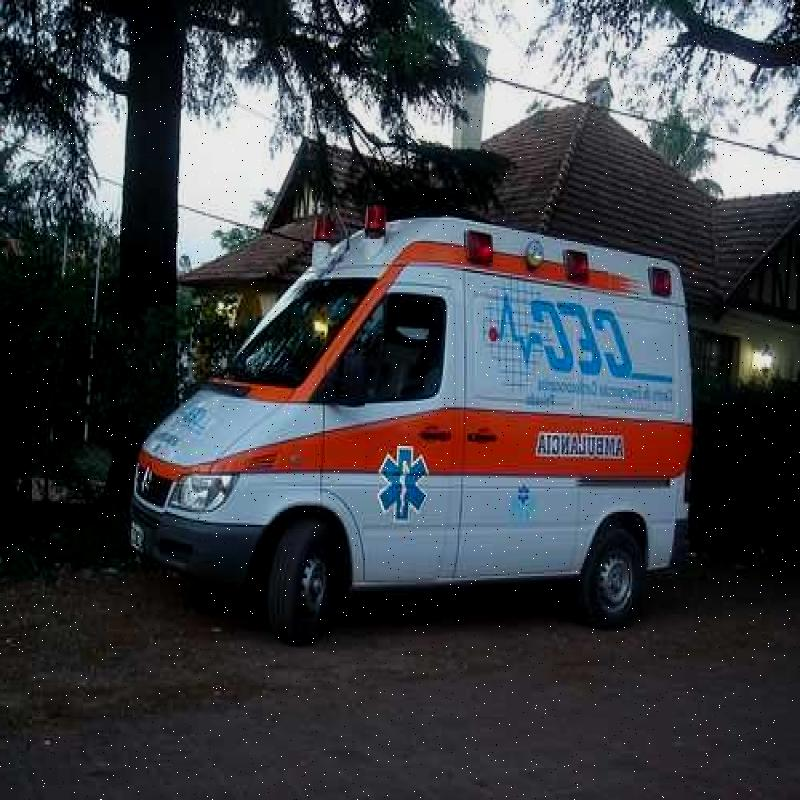AmbulanceSiren: (363, 189, 393, 249), (308, 219, 337, 262)
